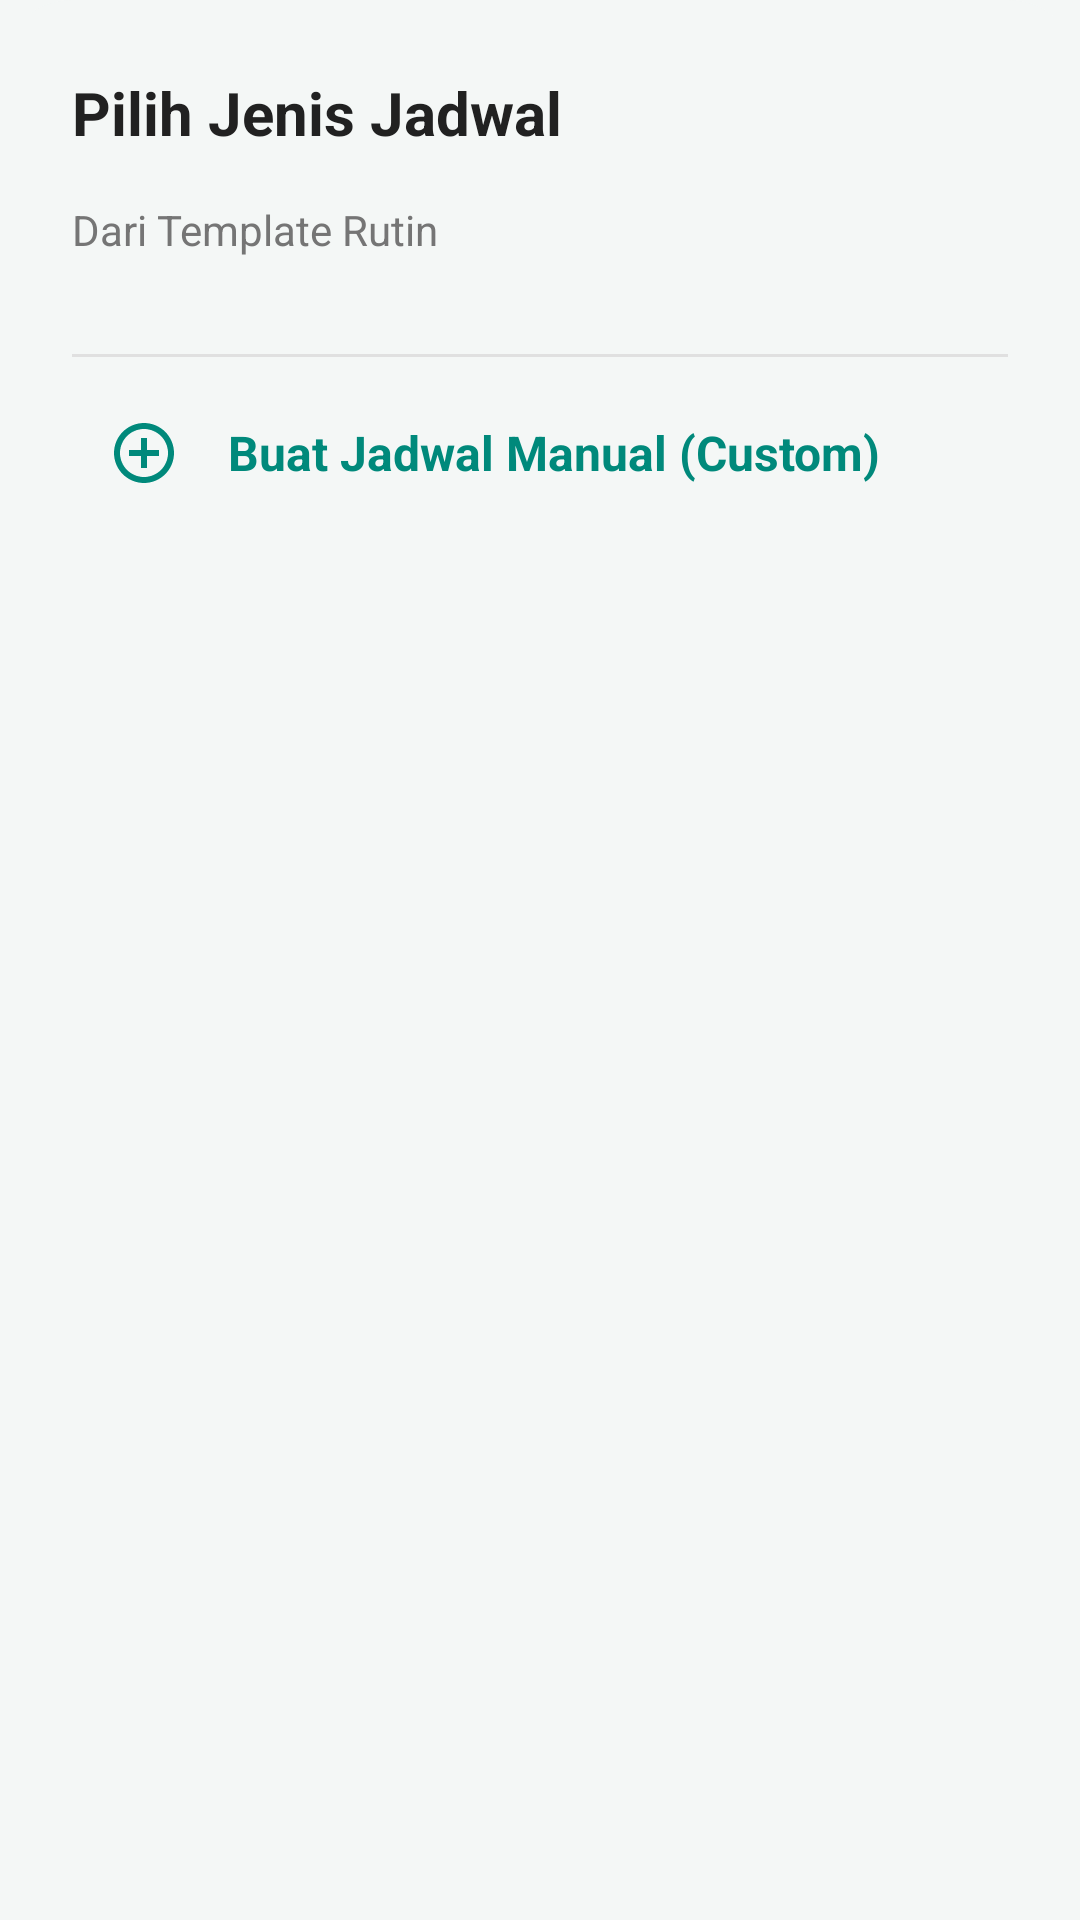

Screen size 1080 × 1920. Icon name, then its center in pixels as (x,y):
add circle: (144,453)
